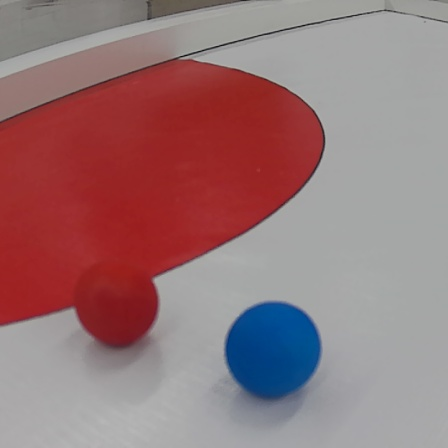blue: (222, 299, 323, 398)
red: (68, 260, 164, 348)
red_base: (0, 52, 326, 330)
